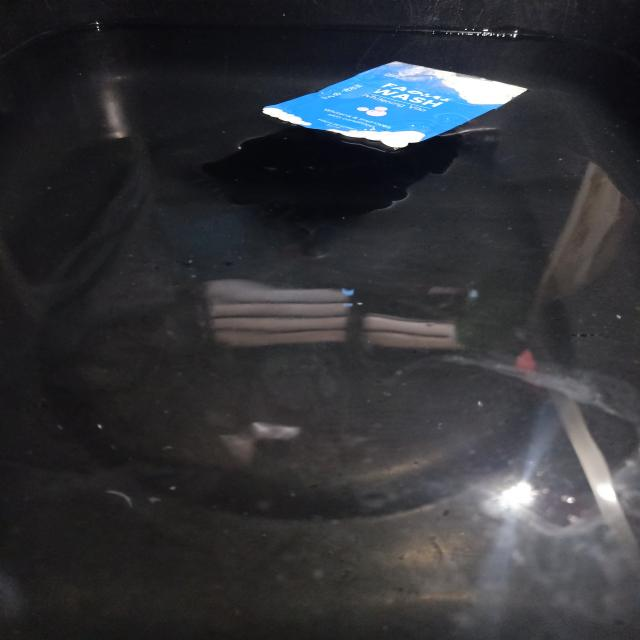Plastic Wrapper: (263, 62, 526, 148)
